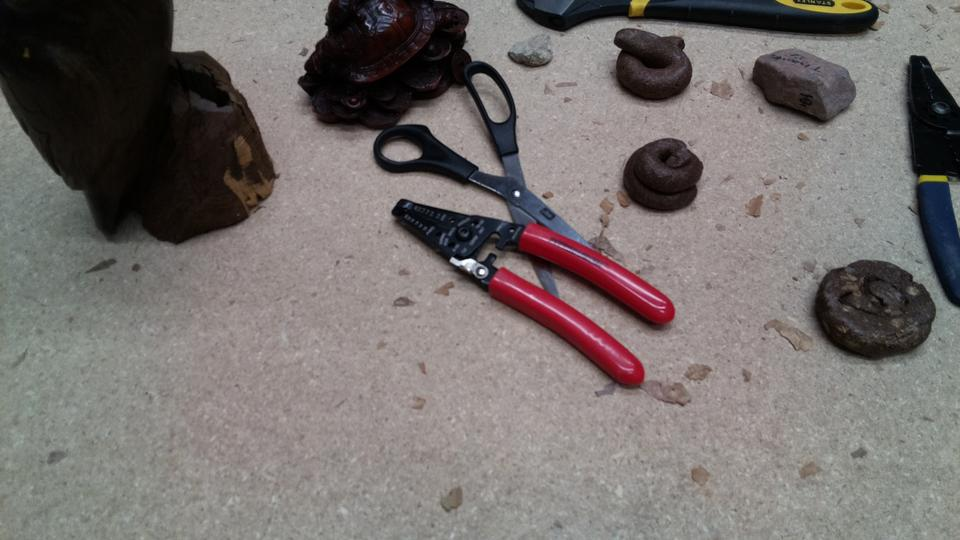poop: (811, 253, 939, 362), (619, 135, 709, 216), (611, 25, 694, 104)
